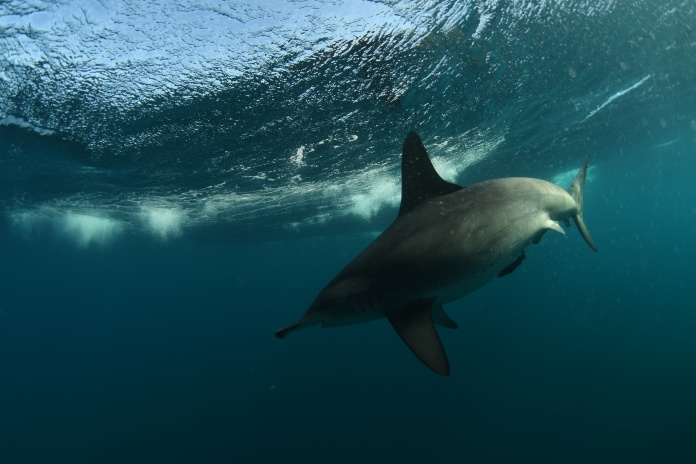Hammer: (240, 88, 617, 398)
